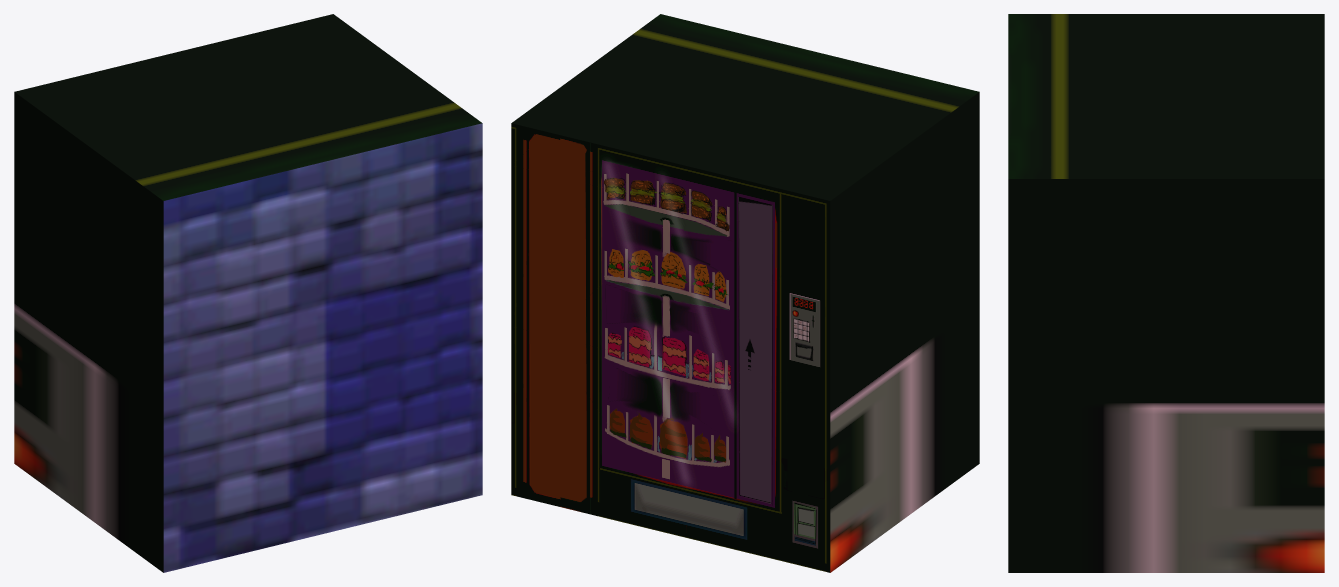
The model's file is Vend.glb.
3 renders of one model, left to right at view 1: azimuth 30°, elevation 25°; view 2: azimuth 150°, elevation 25°; view 3: azimuth 270°, elevation 25°, orthographic. The views are drawn at different scales.
Visible parts, largest first — view 1: Vend; view 2: Vend; view 3: Vend.
Boxes of the visible parts, <box> form: Vend: <box>14,14,482,572</box>; Vend: <box>511,14,979,572</box>; Vend: <box>1008,14,1324,572</box>.
Size of the model in its own units: 79 by 88 by 64.
Materials: 2 (2 with a texture image).
